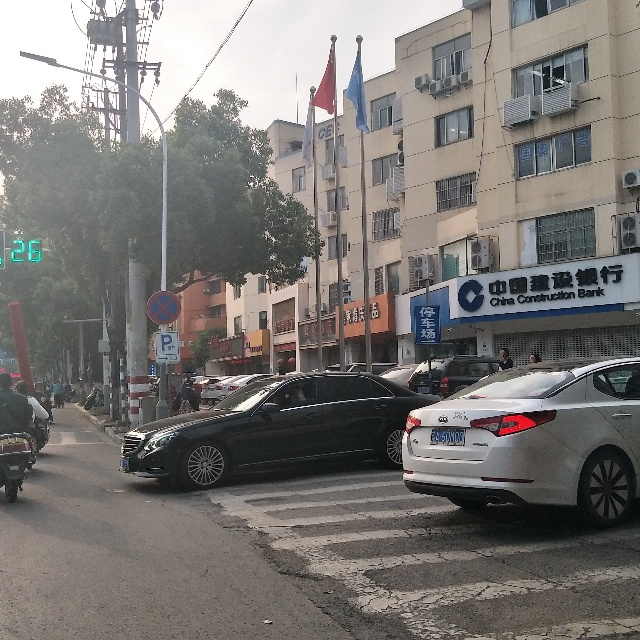stop: (146, 291, 183, 323)
